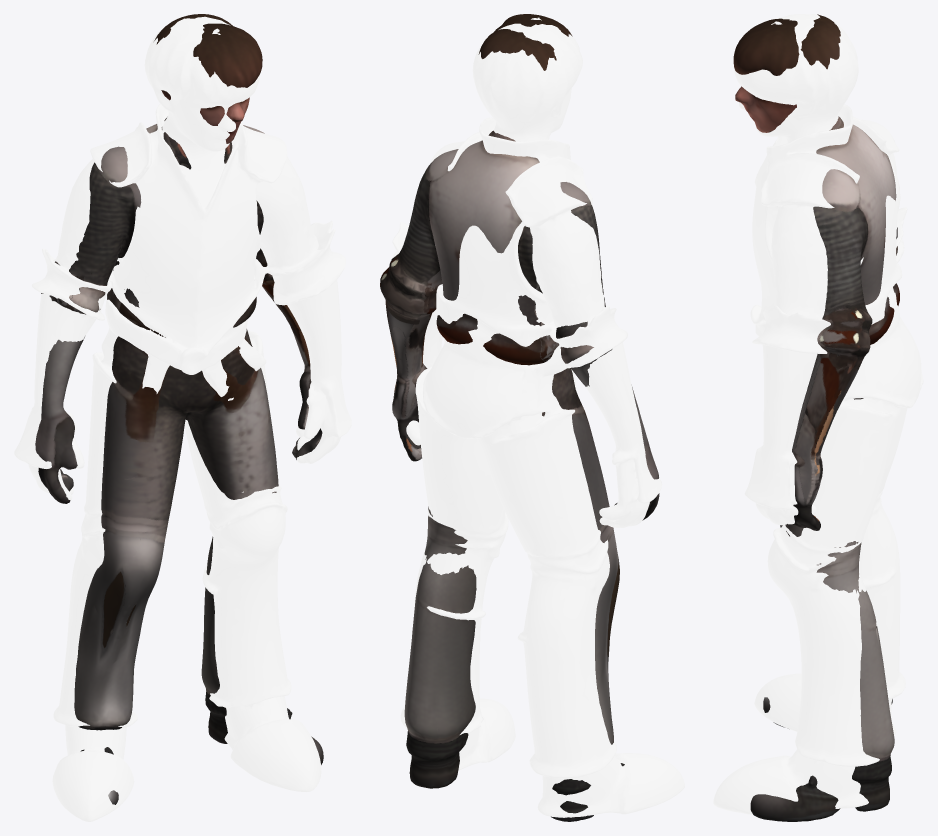
The model's file is plate_wrapped.glb.
3 views of the same model, side by side, from view 1: azimuth 30°, elevation 25°; view 2: azimuth 150°, elevation 25°; view 3: azimuth 270°, elevation 25° (orthographic).
Visible parts, largest first — view 1: Outfit, Body; view 2: Outfit, Body; view 3: Outfit, Body.
Boxes of the visible parts, left/top/right/bottom form: Outfit: left=14, top=16, right=351, bottom=821; Body: left=35, top=14, right=323, bottom=804; Outfit: left=392, top=17, right=684, bottom=817; Body: left=380, top=14, right=659, bottom=821; Outfit: left=713, top=14, right=923, bottom=814; Body: left=733, top=14, right=899, bottom=821.
Size of the model in its own units: 0.7592 by 1.85 by 0.4688.
Materials: 2 (1 with a texture image).
